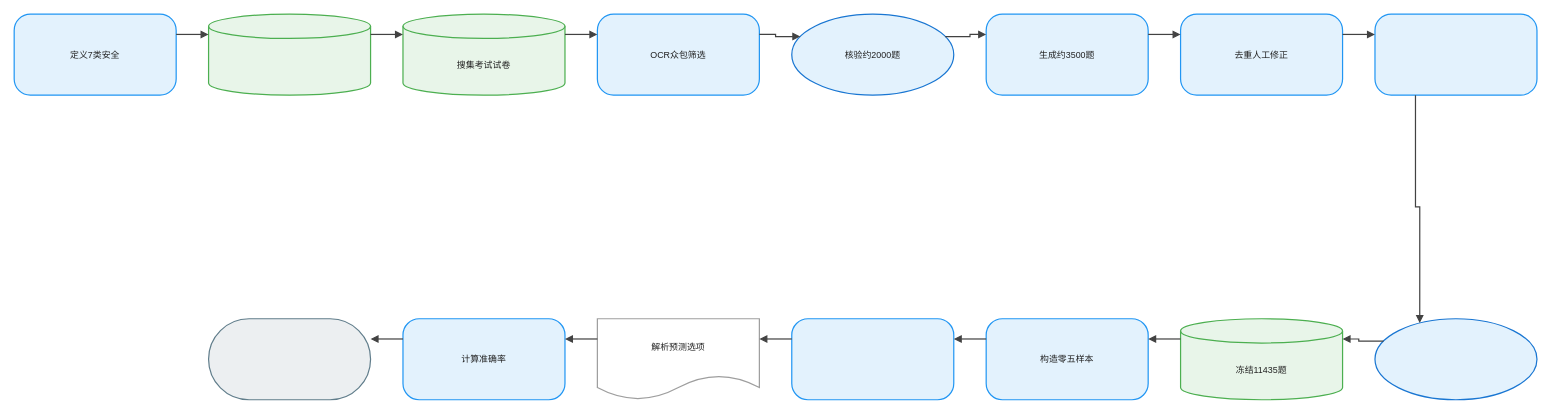
The diagram is 1552 pixels wide and 415 high, and some of its shapes have lost their labels. The shapes that lost their labels are listed below. From the top down, each one's box as (x1, y1, x2, y2) in pixels, then its label:
(208, 13, 371, 95): 转换已有数据
(1374, 13, 1537, 95): 双向翻译
(208, 318, 371, 400): 分析类别语言
(791, 318, 954, 400): 运行中英文
(1374, 318, 1537, 400): 人工与GPT抽检
